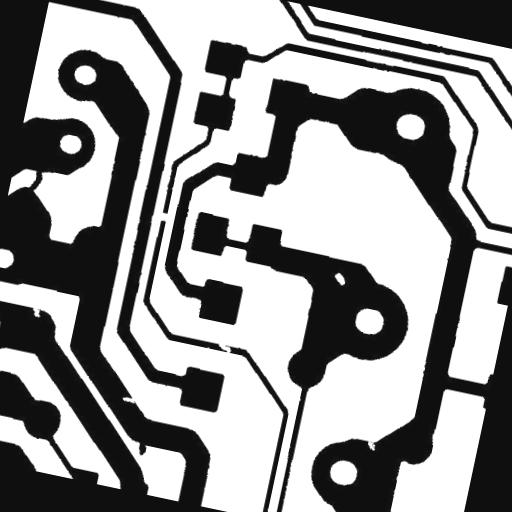mousebite: (356, 427, 385, 459), (112, 386, 145, 412), (22, 296, 50, 326)
open: (146, 201, 178, 230), (208, 333, 240, 362)
pin-hole: (324, 263, 354, 294)
short: (16, 158, 52, 204)
spur: (126, 430, 156, 464)
